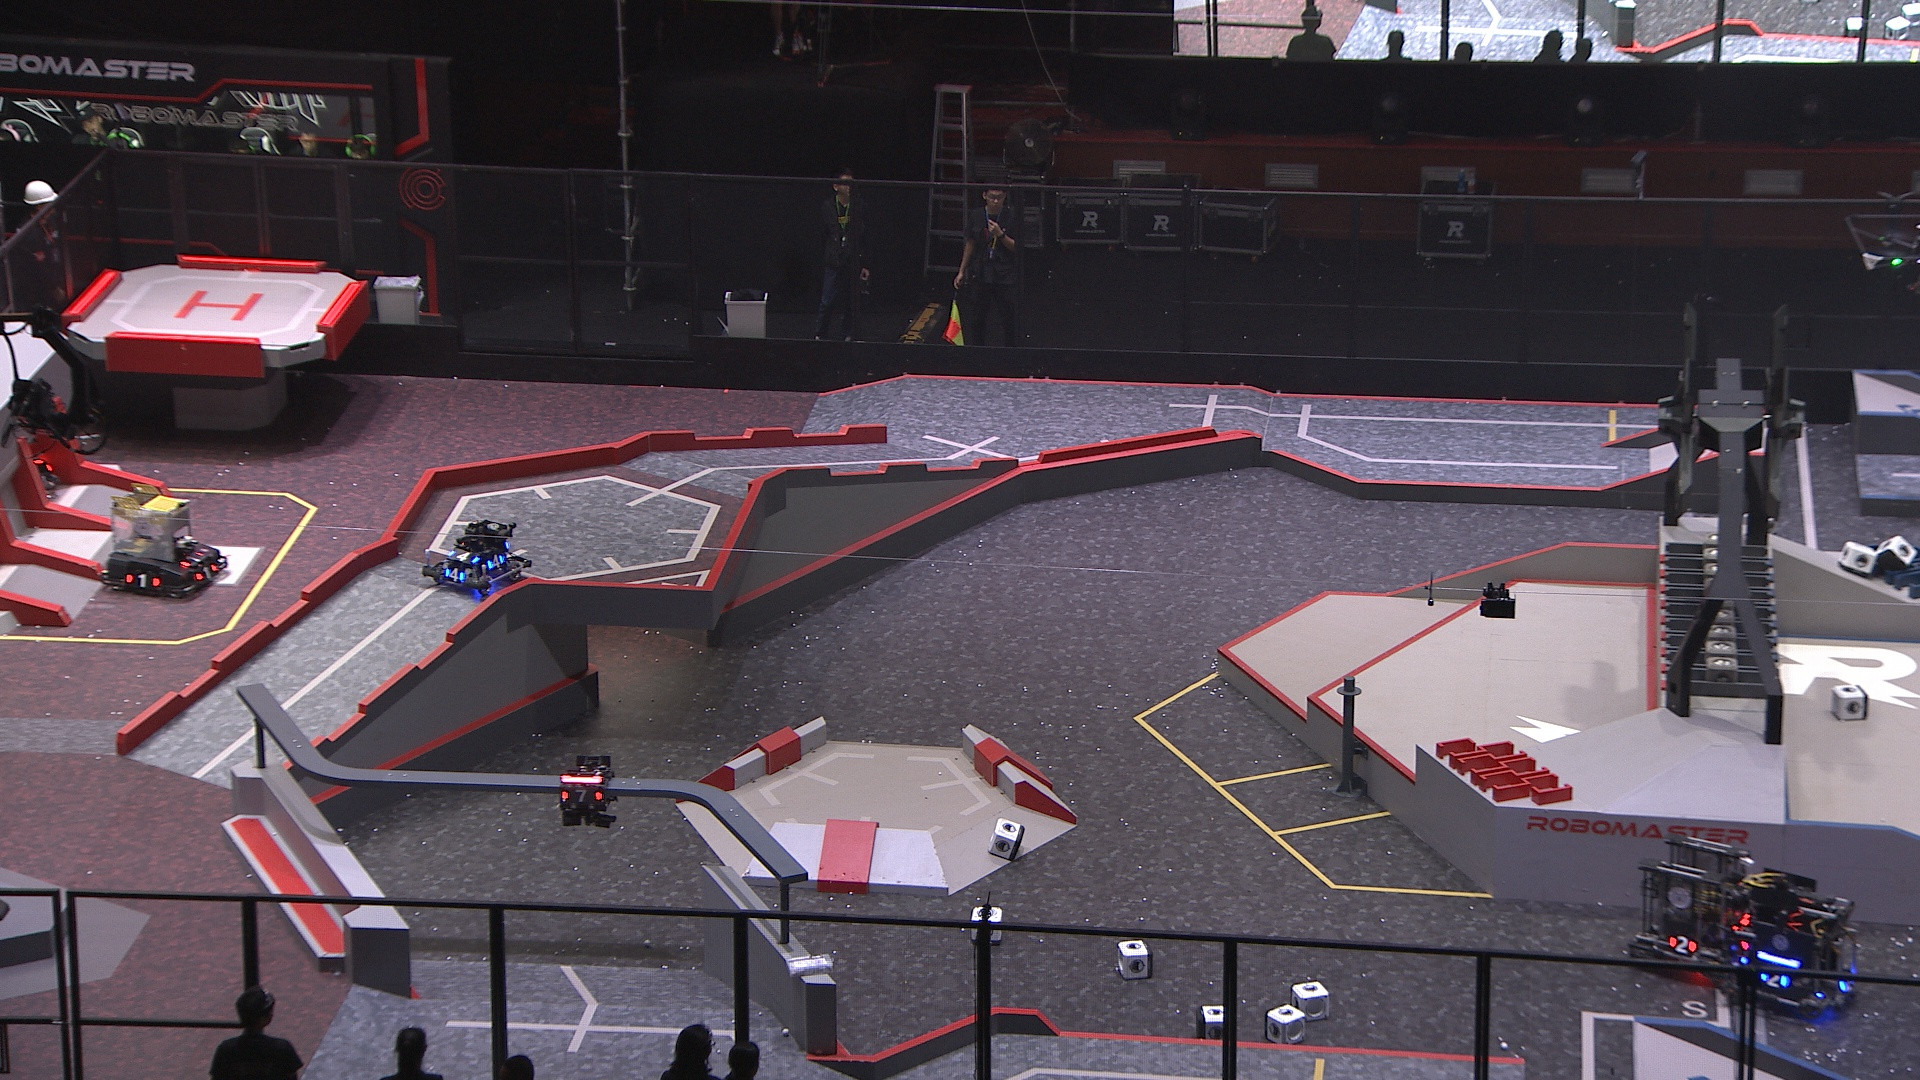armor: (1756, 963, 1789, 989), (556, 787, 605, 804), (1667, 932, 1698, 957), (123, 571, 162, 591), (191, 559, 218, 584), (178, 549, 206, 572), (446, 550, 481, 564), (1837, 967, 1855, 994), (442, 564, 467, 584), (485, 550, 508, 570)
car: (1724, 864, 1863, 1015), (1633, 832, 1755, 978), (98, 480, 225, 603), (419, 513, 537, 603)
watcher: (555, 752, 618, 831)
